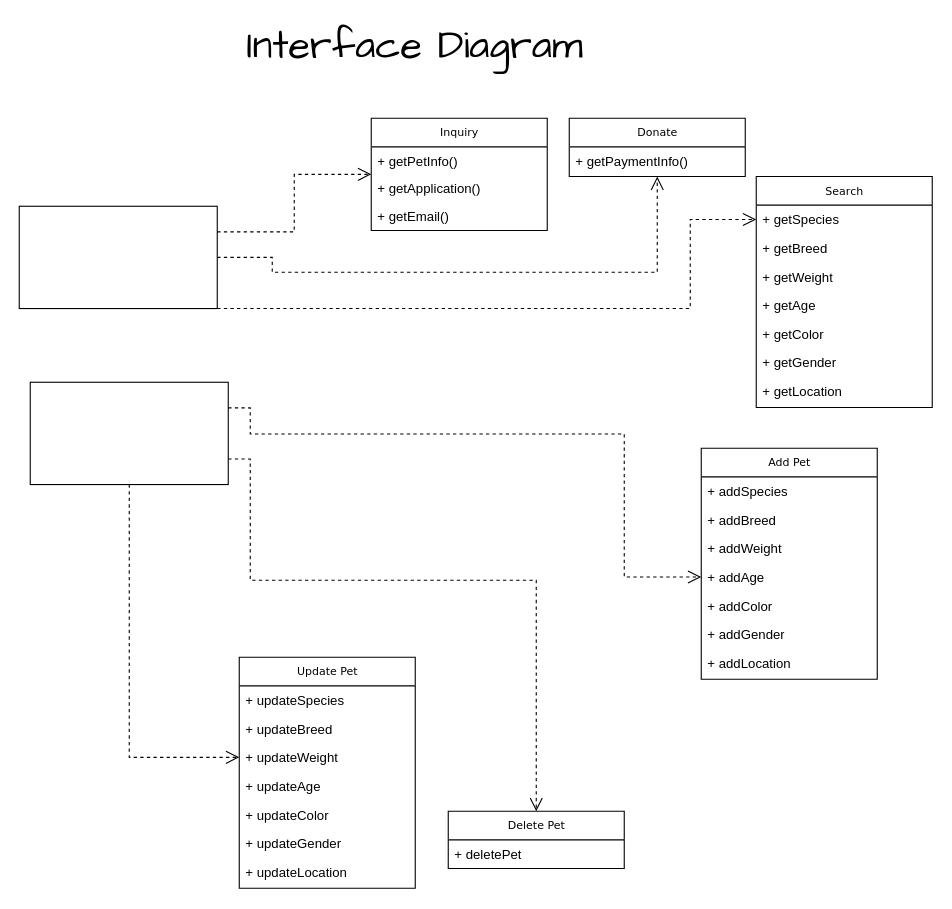
This 952x909 diagram has some shape labels left out. The centre of each missing label's shape, as x and y in pixels:
<<Interface>> Admin + AddPet() + DeletePet() + UpdatePet(): point 128,433
<<Interface>> User + Adopt() + Donate() + Search(): point 117,257
